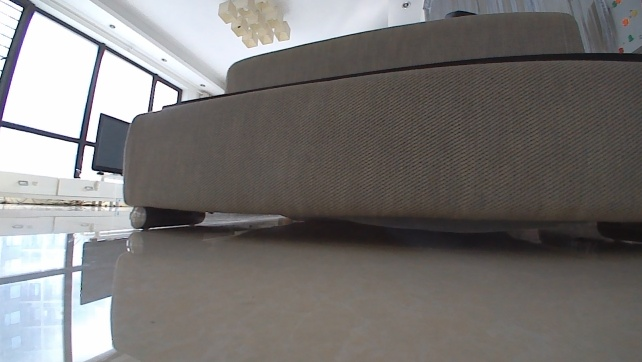TV_stand1: (0, 169, 123, 204)
sofa1: (118, 11, 641, 241)
